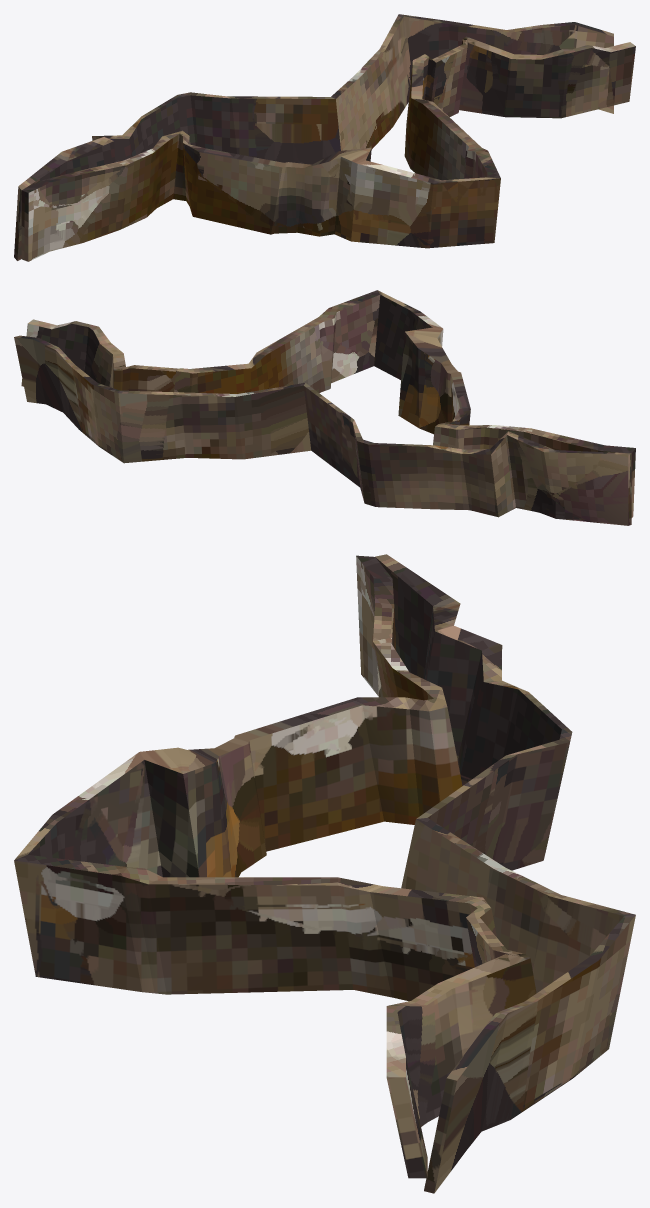
The model's file is Chasm_Floor_v1.fbx.
3 views of the same model, one above another, from view 1: azimuth 30°, elevation 25°; view 2: azimuth 150°, elevation 25°; view 3: azimuth 270°, elevation 25° (orthographic). The views are drawn at different scales.
Parts seen in each view (by area): view 1: Chasm_Path; view 2: Chasm_Path; view 3: Chasm_Path.
Boxes of the visible parts, x1=… form: Chasm_Path: x1=14, y1=14, x2=635, y2=261; Chasm_Path: x1=14, y1=290, x2=635, y2=525; Chasm_Path: x1=14, y1=554, x2=635, y2=1193.
Bounding box in the file's own units: 49541 × 7300 × 25681.
